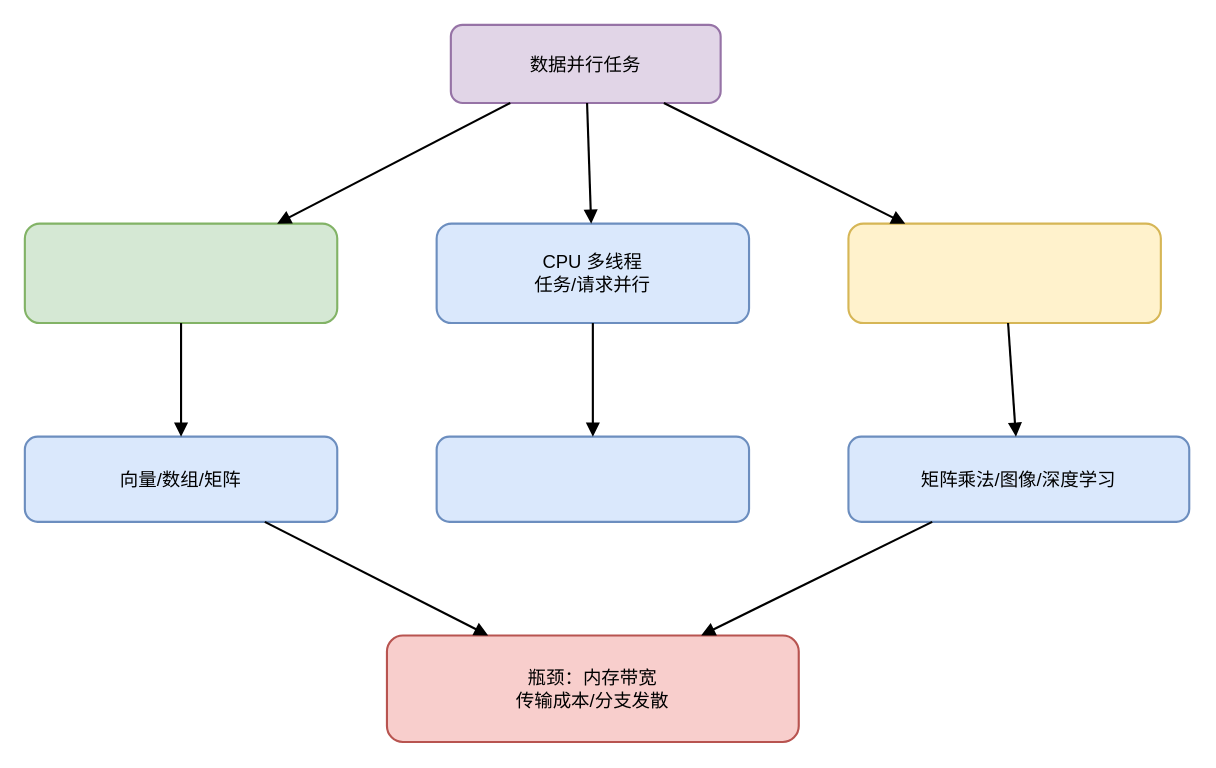
Image size: 1216x768. Some labels were removed from this diagram. Here are the shapes that lost their labels. From the top down, the centre of each, then its label:
At point (180, 272): "SIMD 单指令多数据".
At point (1004, 272): "GPU 海量轻量线程".
At point (592, 478): "低延迟/复杂控制流".
